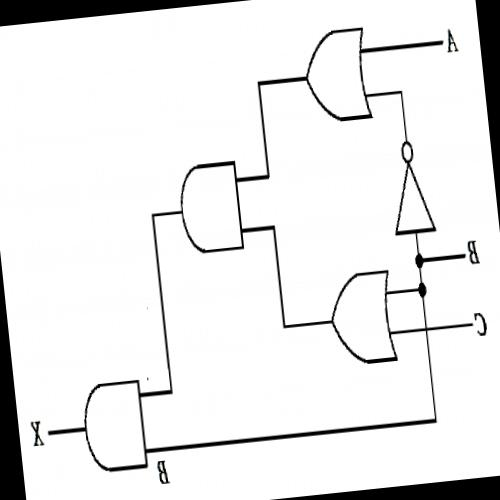and: (167, 150, 248, 263), (74, 370, 152, 478)
not: (382, 134, 437, 238)
or: (295, 19, 375, 128), (322, 262, 400, 370)
